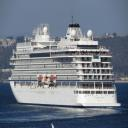cruises: (9, 24, 123, 111)
